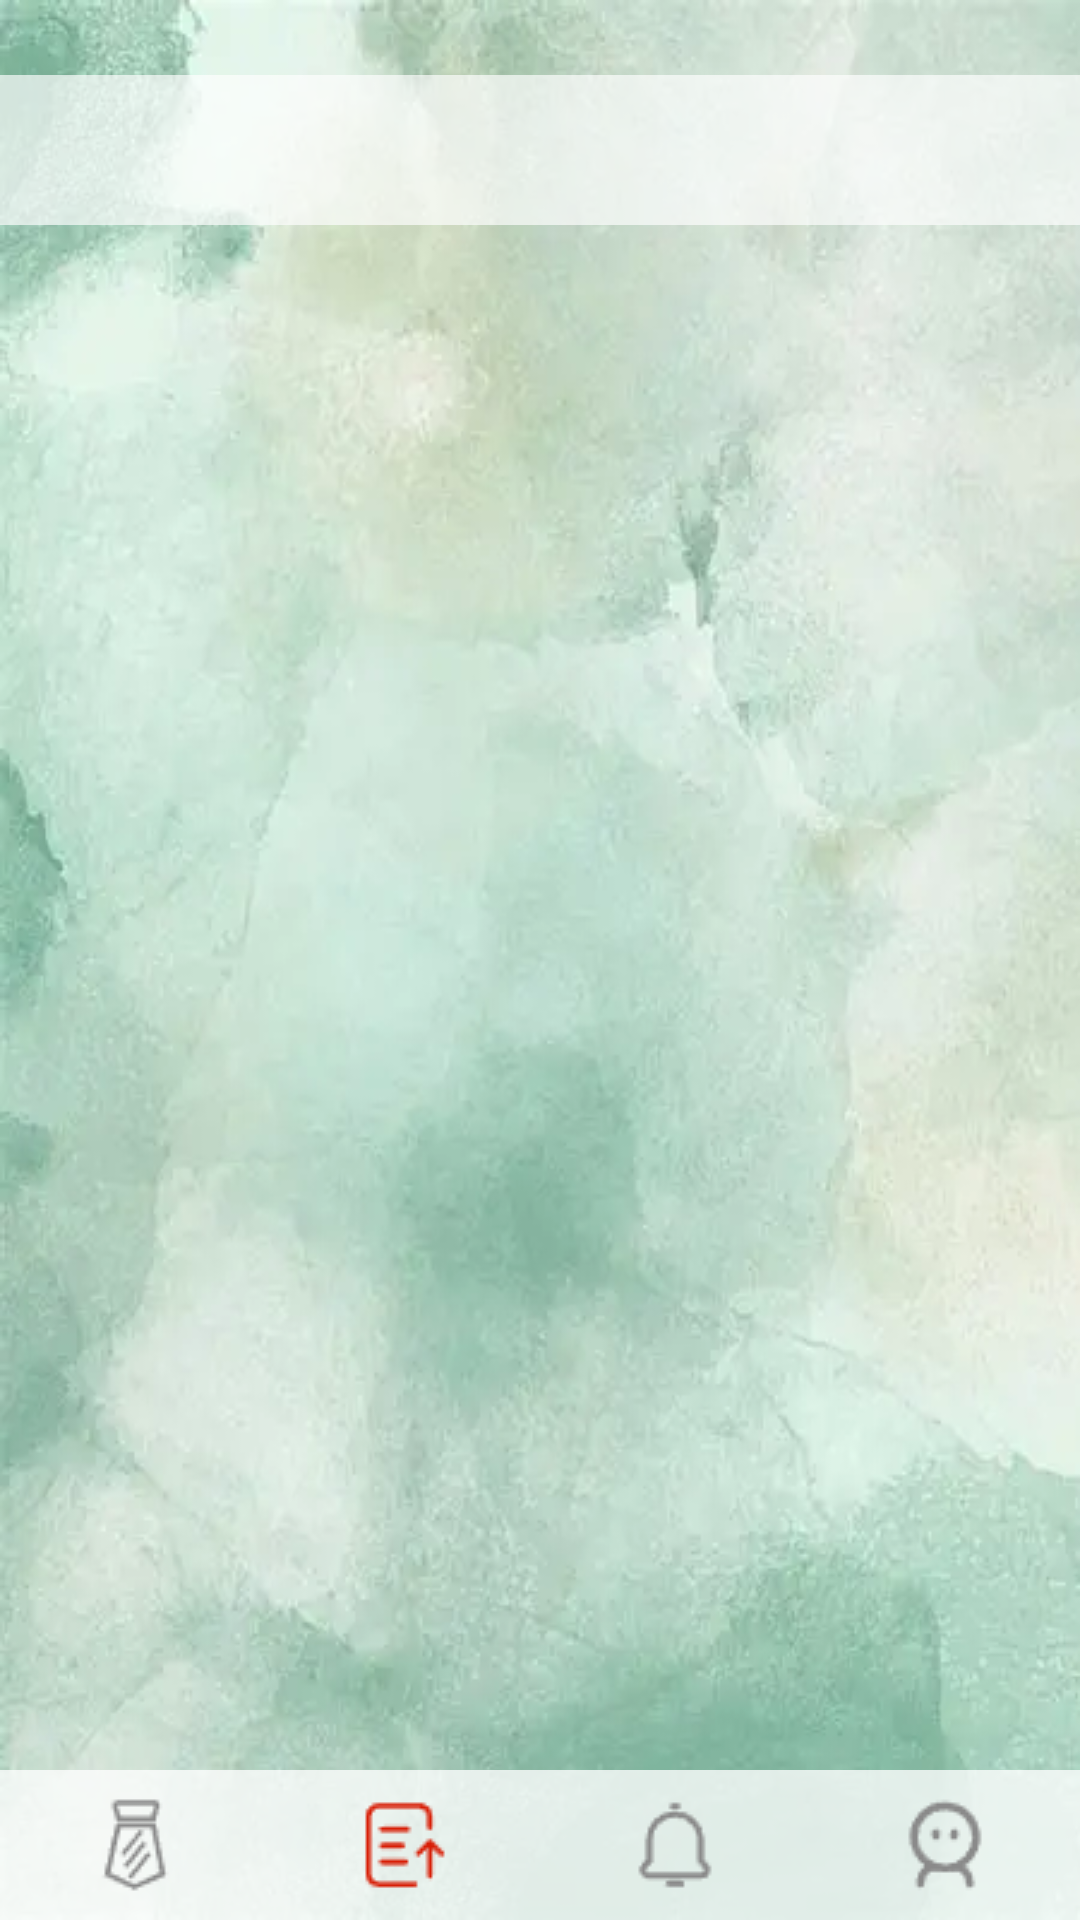

Screen size 1080*1920. Icon name, then its box in pixels as region(x1, y1, x2, y2):
jianli: region(365, 1802, 445, 1888)
xiaoxi: region(638, 1802, 711, 1888)
zhiwei: region(104, 1799, 166, 1891)
